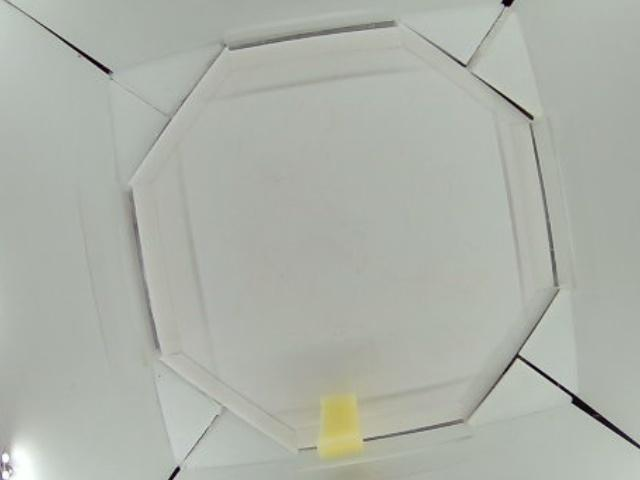Potato: (315, 390, 365, 459)
